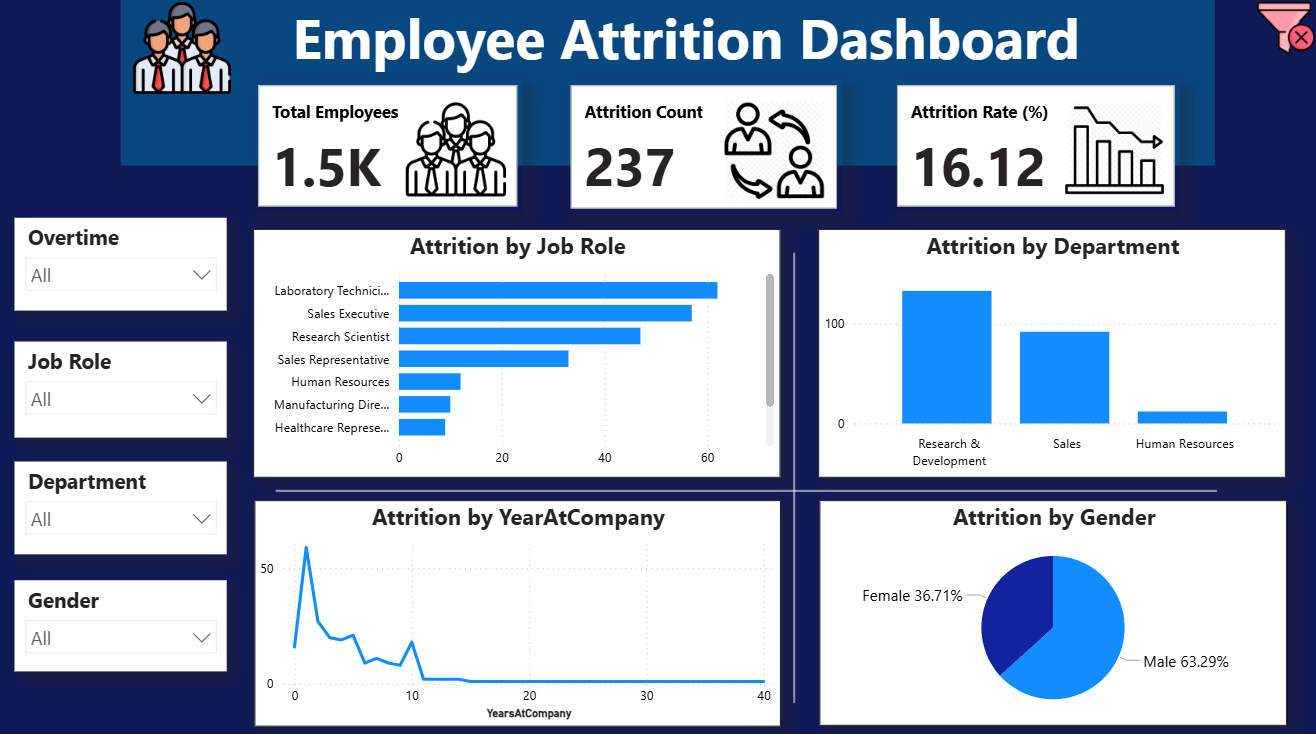

What the dashboard file says about the page in this screenshot:
{"tool":"powerbi","page":{"name":"Attrition Overview","canvas":[1280,720],"ordinal":0},"visuals":[{"type":"textbox","box":[119.7,0,1056.1,165.9],"z":0},{"type":"image","box":[119.7,0,118.3,103.9],"z":1000},{"type":"cardVisual","fields":{"Data":["Sum(WA_Fn-UseC_-HR-Employee-Attrition.EmployeeCount)"]},"box":[248.5,84.5,249.7,131.5],"z":2000},{"type":"cardVisual","fields":{"Data":["WA_Fn-UseC_-HR-Employee-Attrition.Attrition Count"]},"box":[548.9,83.2,267.8,129.1],"z":3000},{"type":"cardVisual","fields":{"Data":["WA_Fn-UseC_-HR-Employee-Attrition.Attrition Rate (%)"]},"box":[848.1,83.2,278.7,129.1],"z":4000},{"type":"slicer","title":"Gender","fields":{"Values":["WA_Fn-UseC_-HR-Employee-Attrition.Gender"]},"box":[16.9,565.8,205.1,88.1],"z":5000},{"type":"slicer","title":"Gender","fields":{"Values":["WA_Fn-UseC_-HR-Employee-Attrition.Department"]},"box":[16.9,451.2,205.1,89.3],"z":6000},{"type":"slicer","title":"Gender","fields":{"Values":["WA_Fn-UseC_-HR-Employee-Attrition.OverTime"]},"box":[16.9,216,205.1,89.3],"z":7000},{"type":"columnChart","title":"Attrition by Department","fields":{"Category":["WA_Fn-UseC_-HR-Employee-Attrition.Department"],"Y":["CountNonNull(WA_Fn-UseC_-HR-Employee-Attrition.Attrition)"]},"box":[792.6,226.8,451.2,240.1],"z":8000},{"type":"barChart","title":"Attrition by Job Role","fields":{"Category":["WA_Fn-UseC_-HR-Employee-Attrition.JobRole"],"Y":["CountNonNull(WA_Fn-UseC_-HR-Employee-Attrition.Attrition)"]},"box":[247.3,226.8,509.1,240.1],"z":9000},{"type":"pieChart","title":"Attrition by OverTime","fields":{"Y":["CountNonNull(WA_Fn-UseC_-HR-Employee-Attrition.Attrition)"],"Category":["WA_Fn-UseC_-HR-Employee-Attrition.OverTime"]},"box":[793.5,489.1,451.6,217.9],"z":10000},{"type":"lineChart","title":"Attrition by YearAtCompany","fields":{"Category":["WA_Fn-UseC_-HR-Employee-Attrition.YearsAtCompany"],"Y":["CountNonNull(WA_Fn-UseC_-HR-Employee-Attrition.Attrition)"]},"box":[248.5,488.6,507.9,218.4],"z":11000},{"type":"slicer","title":"Gender","fields":{"Values":["WA_Fn-UseC_-HR-Employee-Attrition.JobRole"]},"box":[16.9,335.4,205.1,92.9],"z":12000},{"type":"shape","box":[269,451.2,908.4,56.7],"z":13000},{"type":"shape","box":[745.9,249.6,47.6,434.3],"z":14000}]}

Visuals, with their boxes in screenshot pixels (x1, y1, x2, y2), scaled from the page's 1280x720 canvas onto the 1316x734 screenshot:
textbox: <bbox>123, 0, 1209, 169</bbox>
image: <bbox>123, 0, 245, 106</bbox>
cardVisual - Sum(WA_Fn-UseC_-HR-Employee-Attrition.EmployeeCount): <bbox>255, 86, 512, 220</bbox>
cardVisual - WA_Fn-UseC_-HR-Employee-Attrition.Attrition Count: <bbox>564, 85, 840, 216</bbox>
cardVisual - WA_Fn-UseC_-HR-Employee-Attrition.Attrition Rate (%): <bbox>872, 85, 1158, 216</bbox>
"Gender" slicer: <bbox>17, 577, 228, 667</bbox>
"Gender" slicer: <bbox>17, 460, 228, 551</bbox>
"Gender" slicer: <bbox>17, 220, 228, 311</bbox>
"Attrition by Department" columnChart: <bbox>815, 231, 1279, 476</bbox>
"Attrition by Job Role" barChart: <bbox>254, 231, 778, 476</bbox>
"Attrition by OverTime" pieChart: <bbox>816, 499, 1280, 721</bbox>
"Attrition by YearAtCompany" lineChart: <bbox>255, 498, 778, 721</bbox>
"Gender" slicer: <bbox>17, 342, 228, 437</bbox>
shape: <bbox>277, 460, 1211, 518</bbox>
shape: <bbox>767, 254, 816, 697</bbox>
